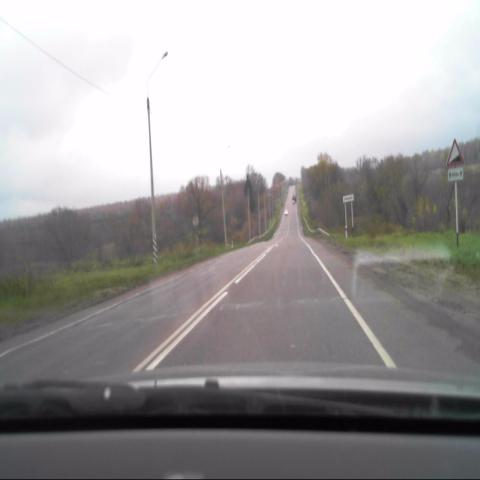1_14: (446, 138, 464, 167)
8_2_1: (447, 168, 464, 182)
